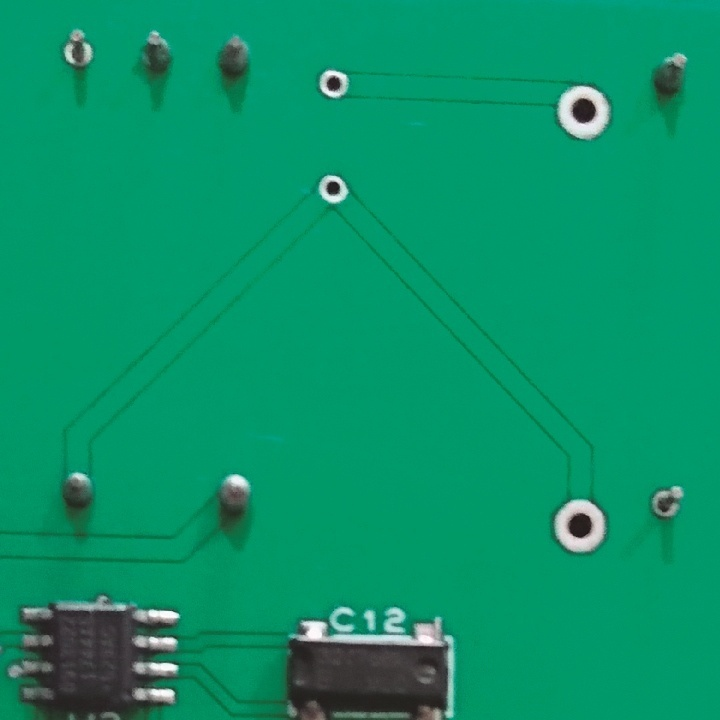F: (551, 79, 616, 143), (550, 496, 613, 554), (61, 26, 98, 77), (646, 480, 687, 524), (316, 166, 349, 209), (316, 65, 352, 101)
